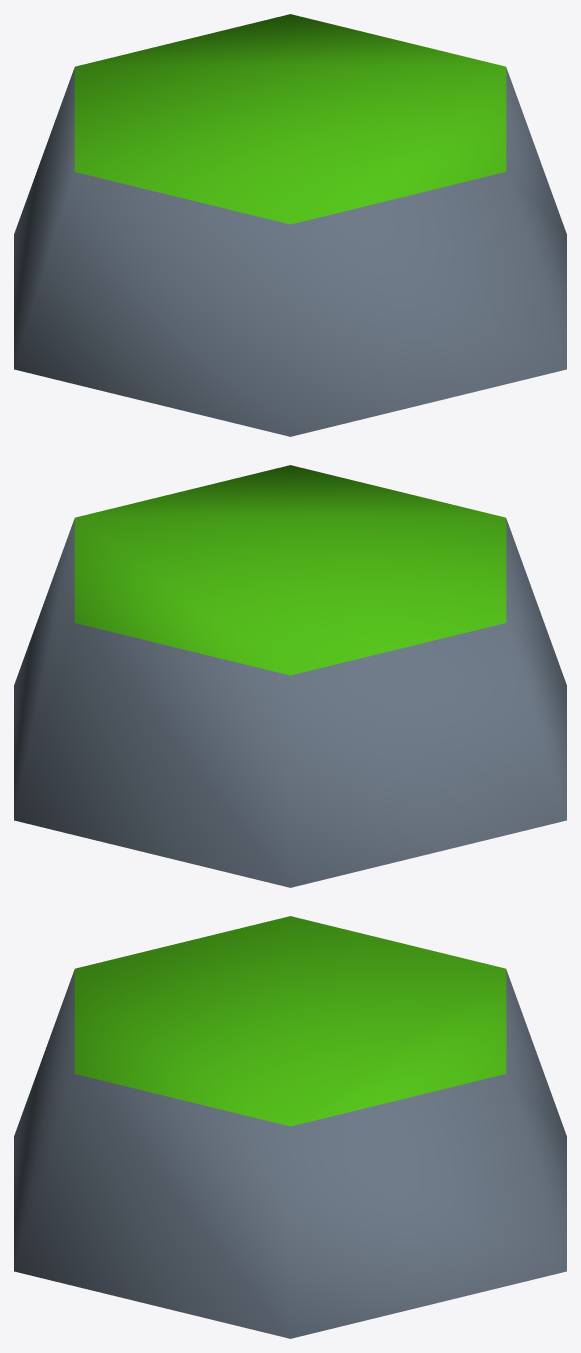
The model's file is boulder_mesh_03.fbx.
The picture shows the model from 3 angles, top to bottom: view 1: azimuth 30°, elevation 25°; view 2: azimuth 150°, elevation 25°; view 3: azimuth 270°, elevation 25°; orthographic projection.
Visible parts, largest first — view 1: boulder_me; view 2: boulder_me; view 3: boulder_me.
Part boxes in pixels (box(x1,y1,x2,y2)): boulder_me: box(14, 14, 566, 436); boulder_me: box(14, 465, 566, 887); boulder_me: box(14, 916, 566, 1338).
Size of the model in its own units: 23.31 by 7.36 by 20.19.
